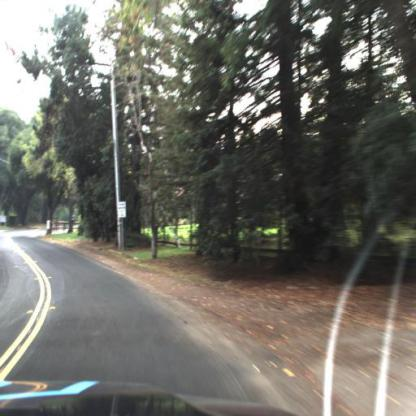car: (70, 213, 80, 229)
